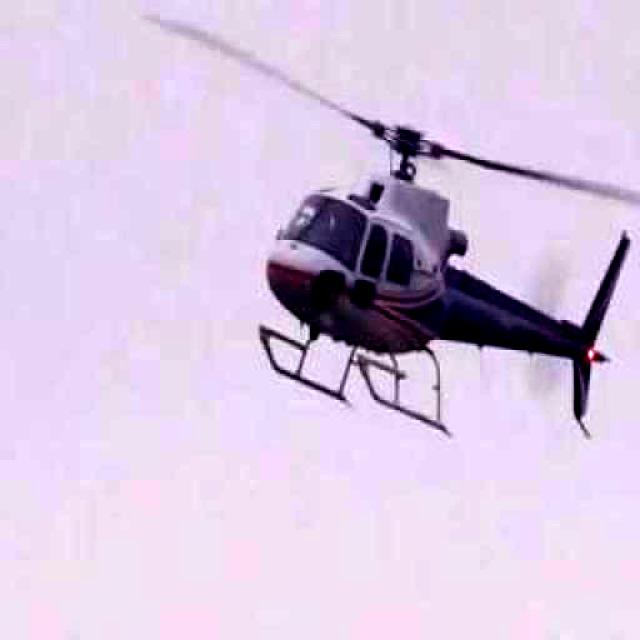drone: (126, 20, 640, 484)
